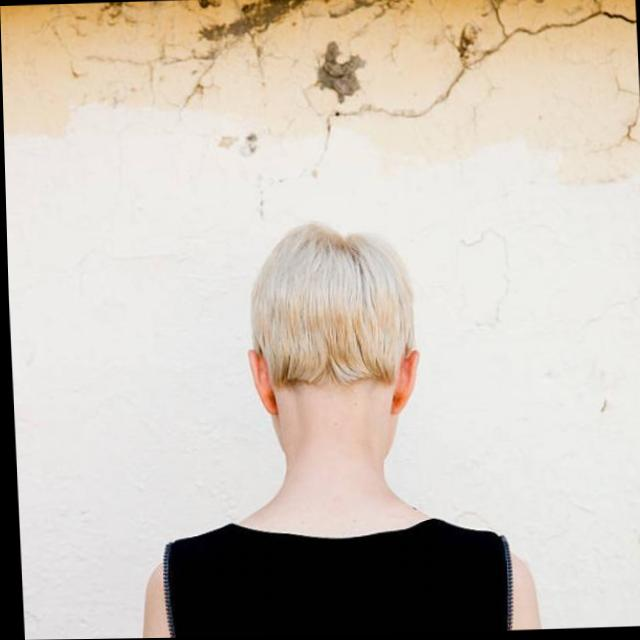no helmet: (239, 222, 426, 464)
